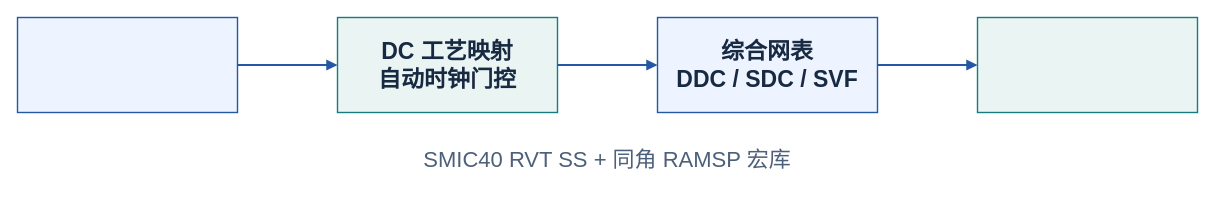
Image size: 1216x201. Some labels were removed from this diagram. Each missing label, with the box of its shape:
冻结 RTL 同一编译宏: (16, 16, 238, 113)
面积与 STA SAIF 活动功耗: (976, 16, 1198, 113)
